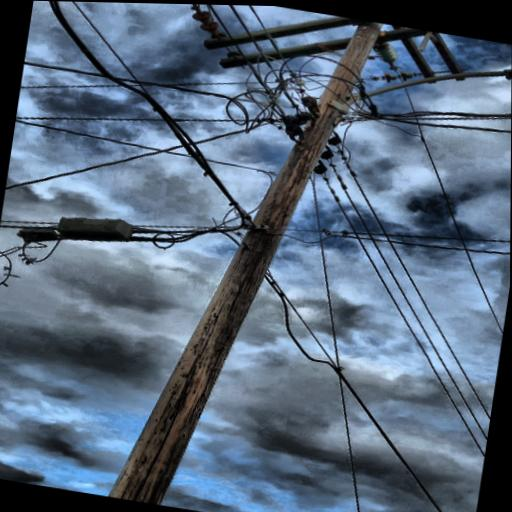pole: (25, 1, 417, 512)
street light: (326, 21, 512, 151)
